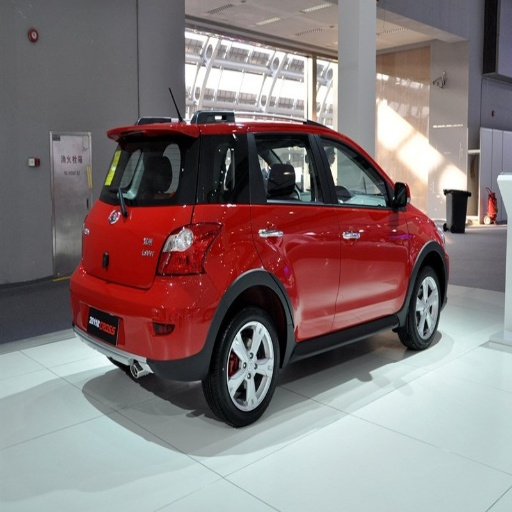back_bumper: (70, 263, 224, 376)
back_right_door: (248, 127, 340, 330)
trunk: (87, 204, 189, 291)
